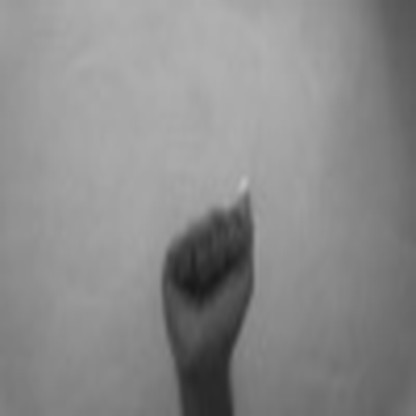a: (149, 168, 259, 360)
